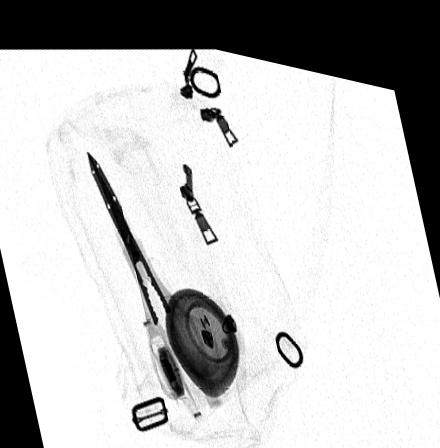Scissors: (81, 140, 211, 397)
